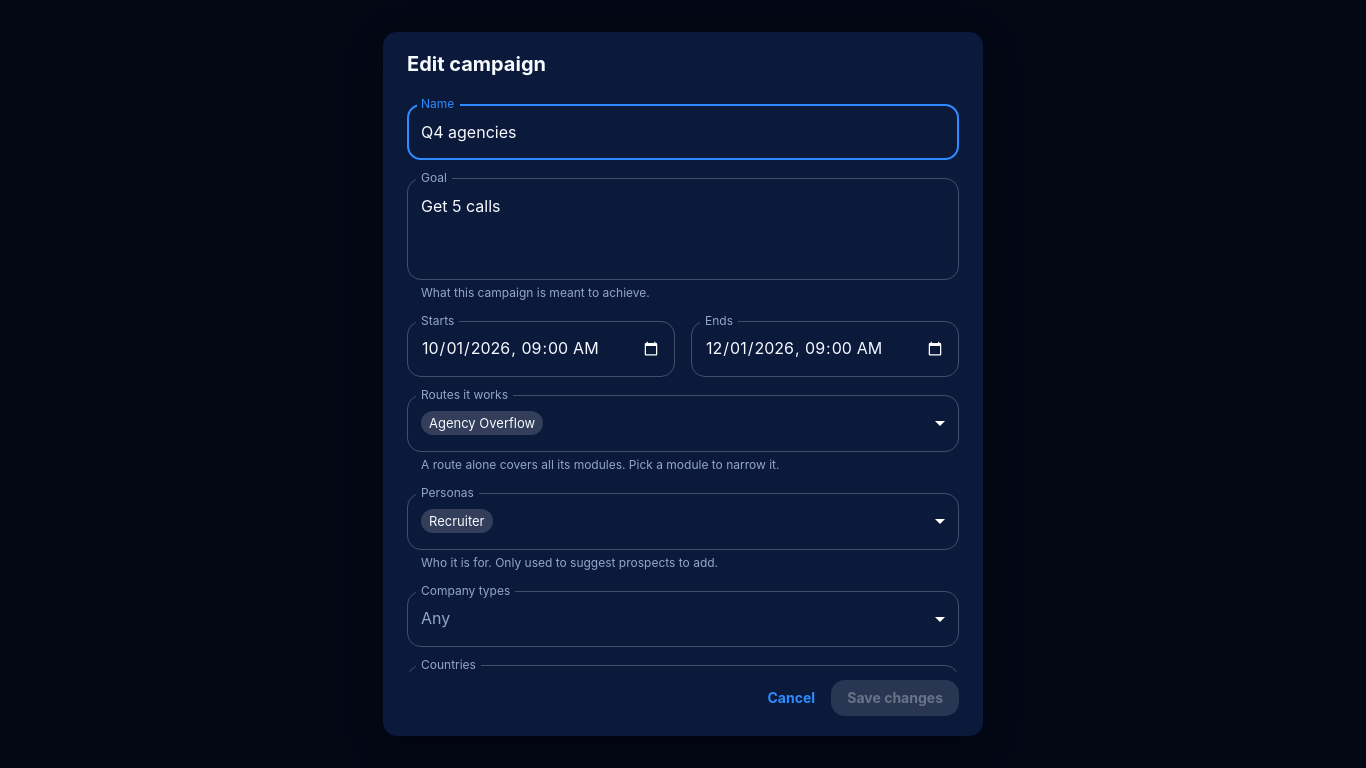
Test: CampaignForm (editing) › catches an end before the untouched start
Replace the text in the field labelled "Ends" with "2026-09-01T09:00" at [825, 349], box [691,321,959,377]
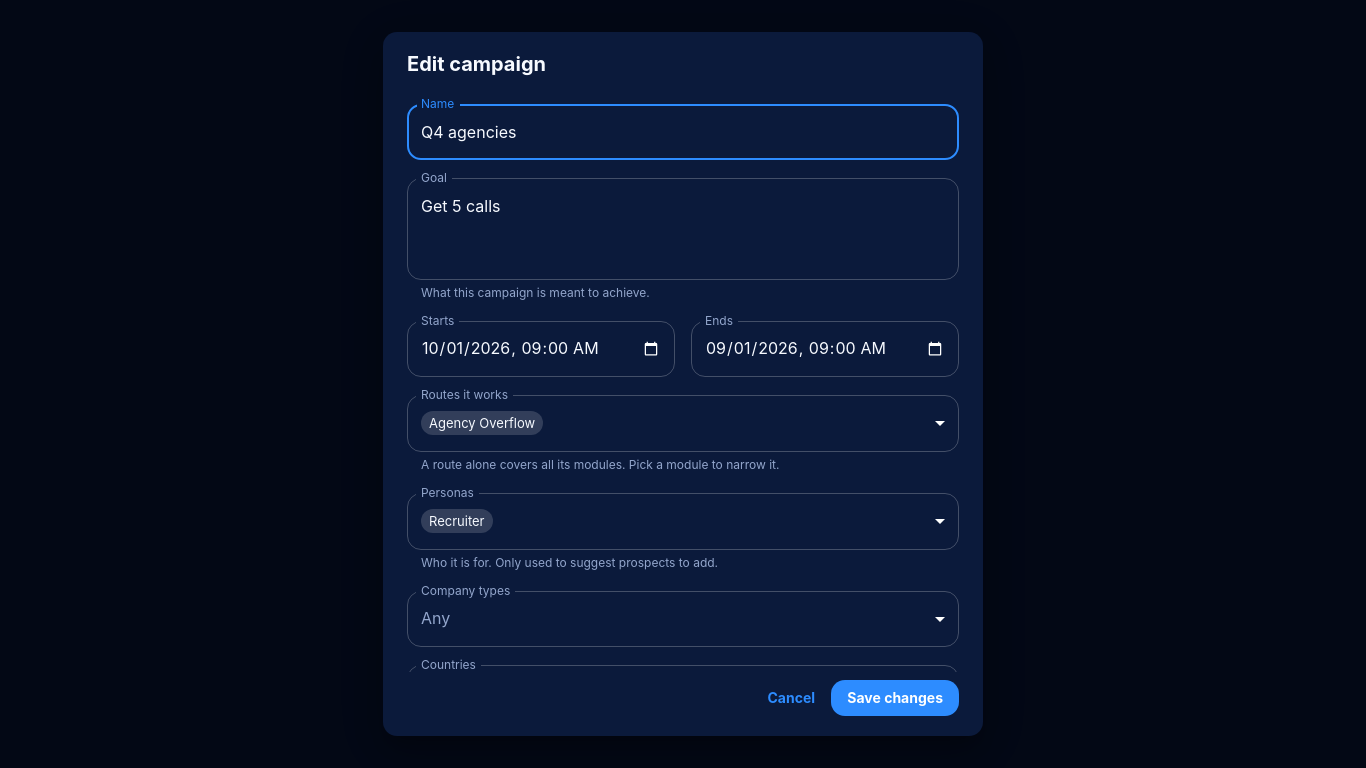
Click the button "Save changes".
click(895, 698)  # box [831,680,959,716]
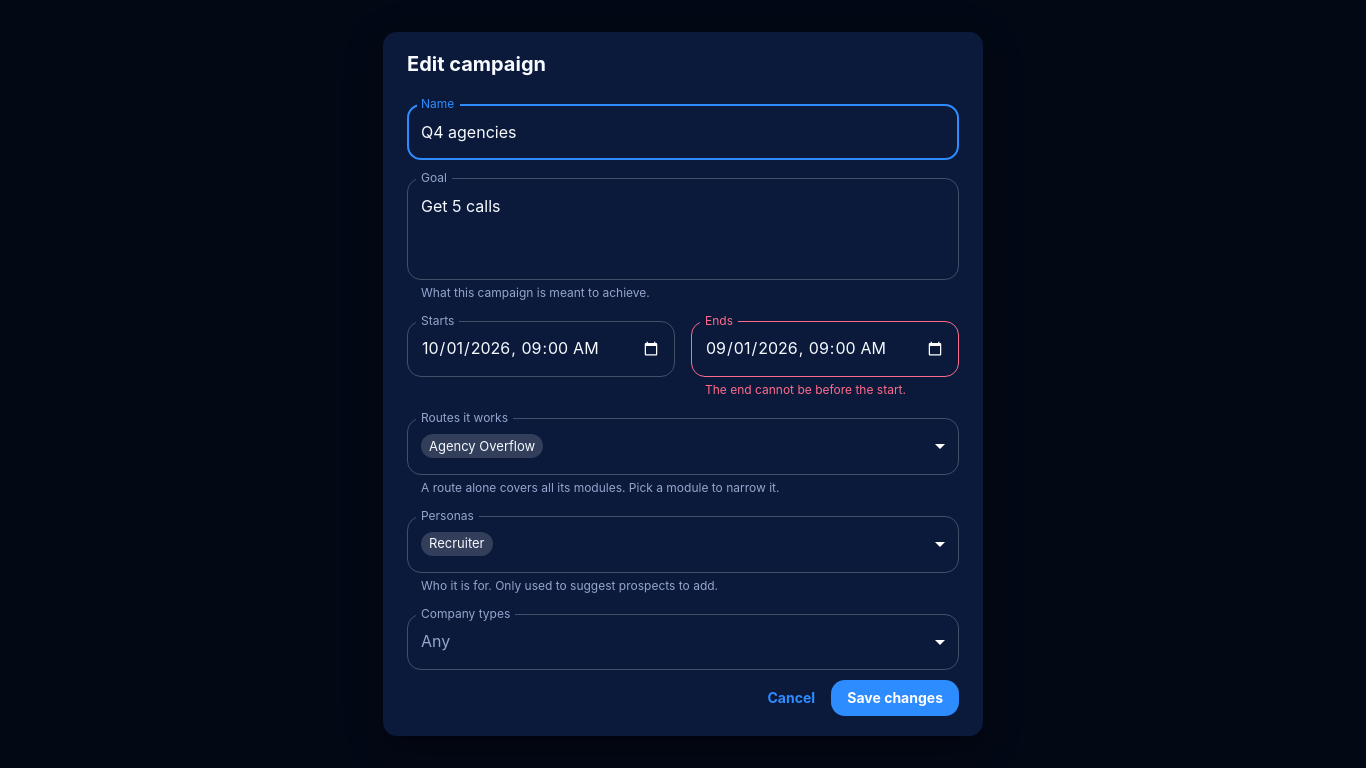
expect the text "The end cannot be before the start." is shown: met, box [705,382,906,397]
